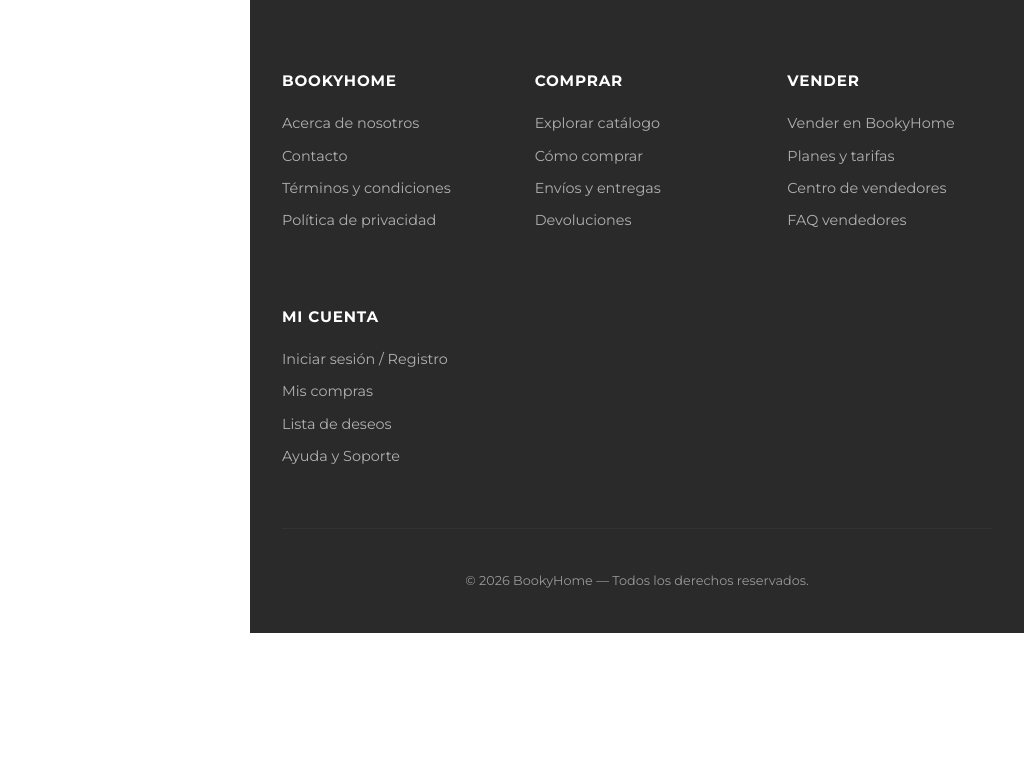
Test: Footer › abre y cierra las páginas legales desde el modal
Click the button "Cómo comprar".
click(589, 156)  # box [535,147,643,165]
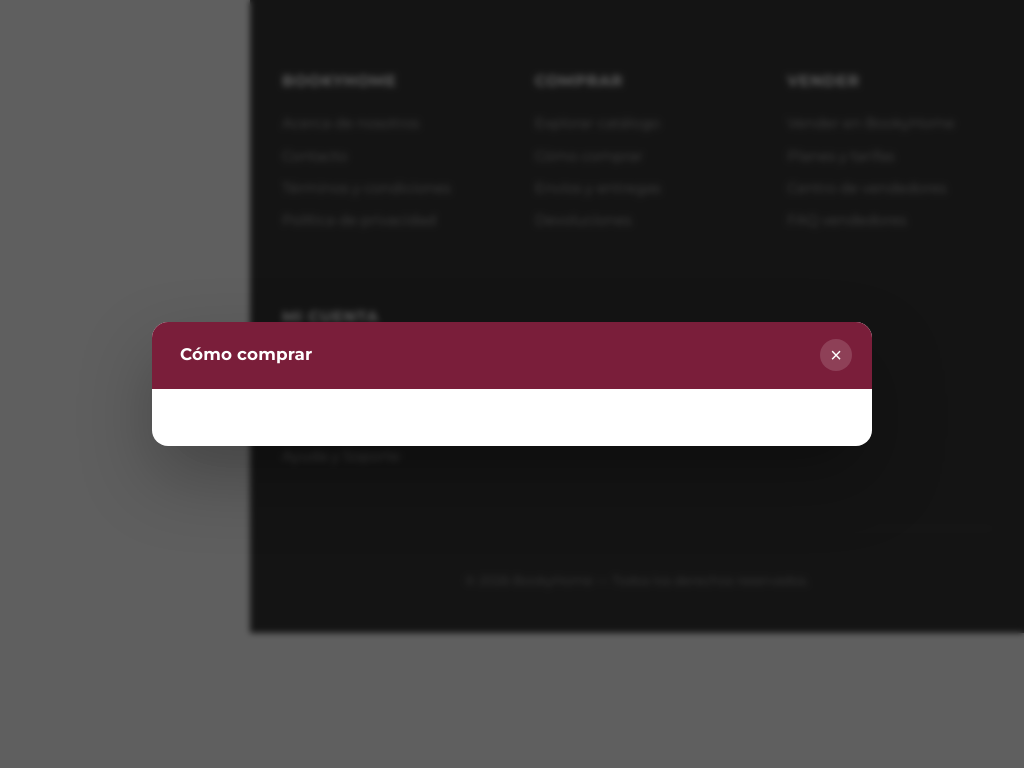
Expected: the dialog shows "Cómo comprar", [180,344,312,364]
Click the button named "Cerrar".
click(836, 355)  # box [820,339,852,371]
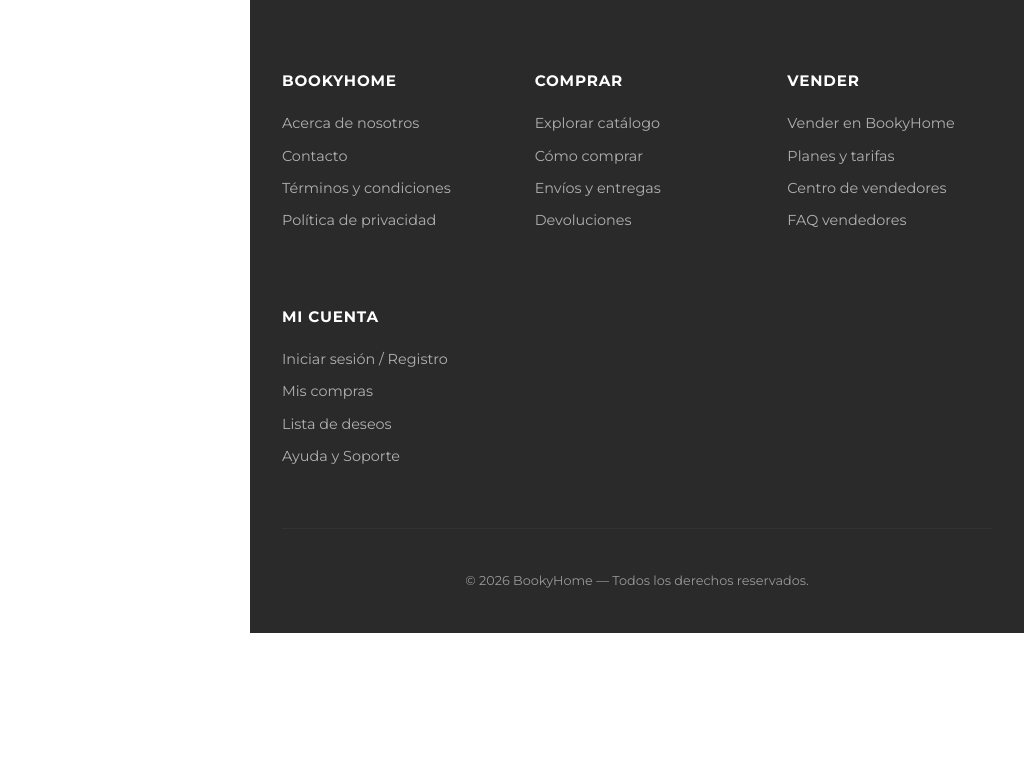
Expected: the dialog is gone
Click the button "Política de privacidad".
click(359, 220)  # box [282,211,436,229]
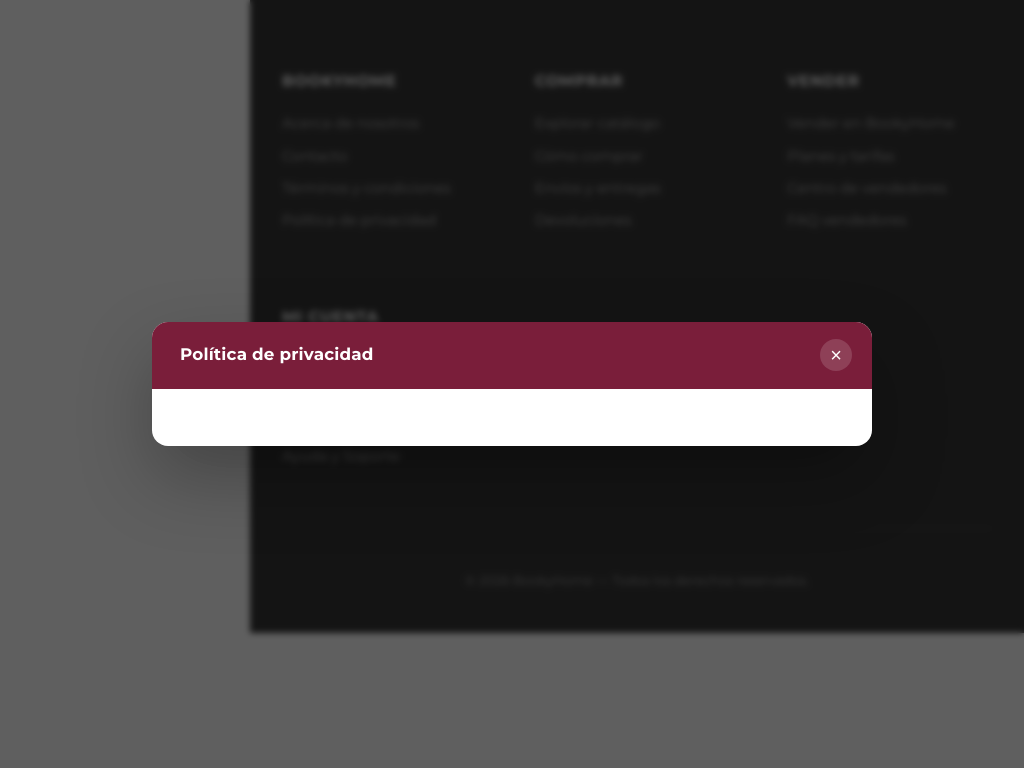
Expected: the dialog shows "Política de privacidad", [180,344,374,364]
Click the element with class "legal-modal-backdrop".
click(61, 384)  # box [0,0,1023,767]
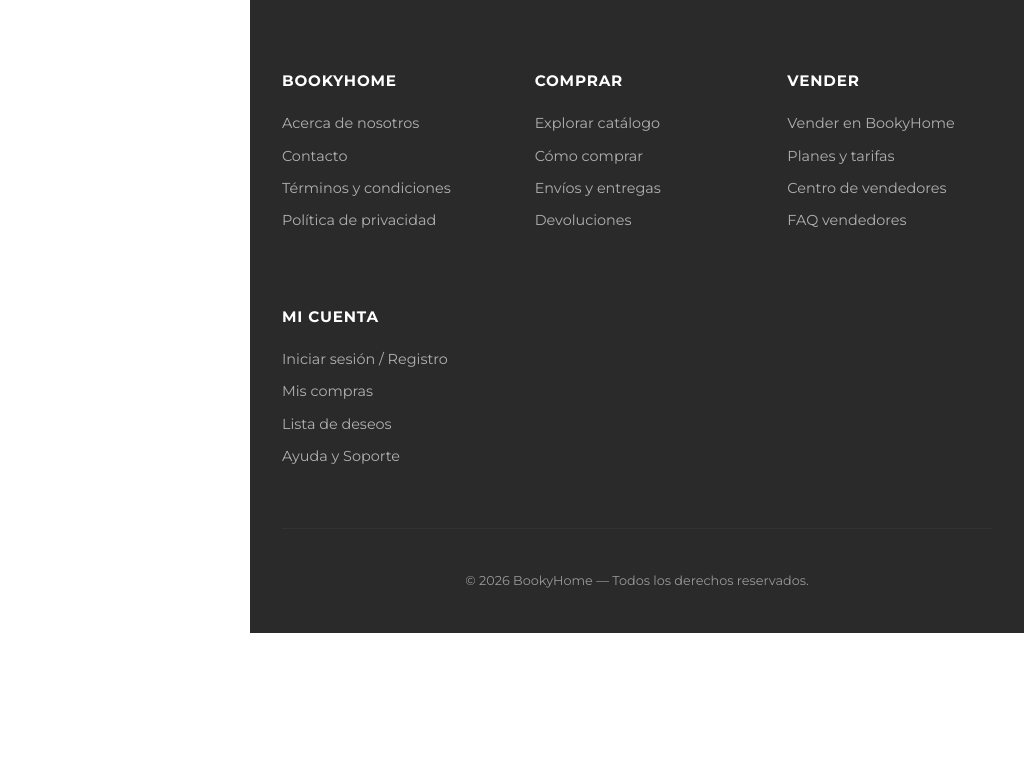
Expected: the dialog is gone
